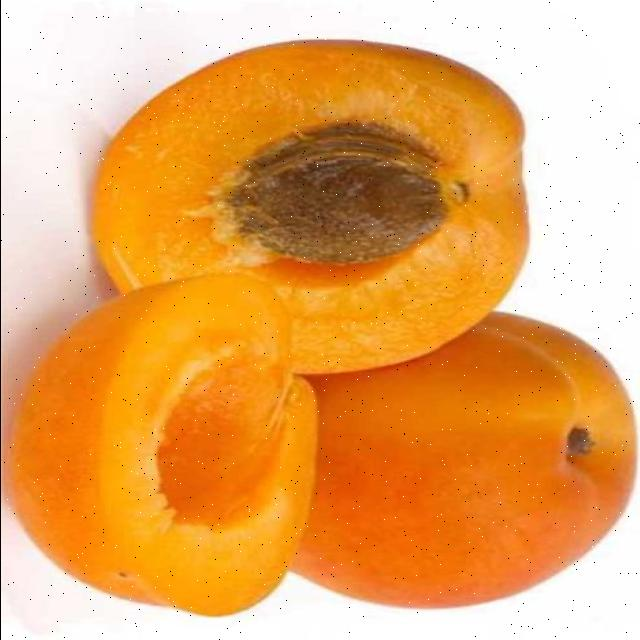Cekirdek: (226, 124, 449, 263)
Kayisi: (93, 42, 526, 373), (12, 275, 316, 616), (291, 313, 635, 609)
